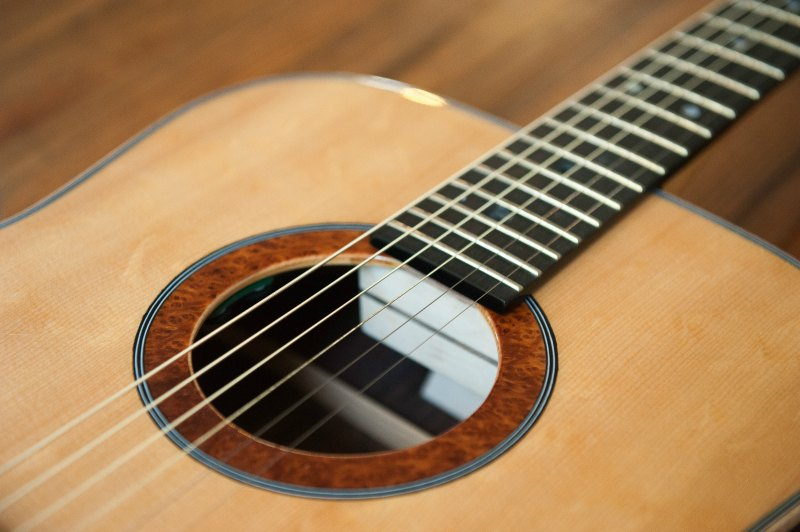guitar: (4, 0, 800, 524)
